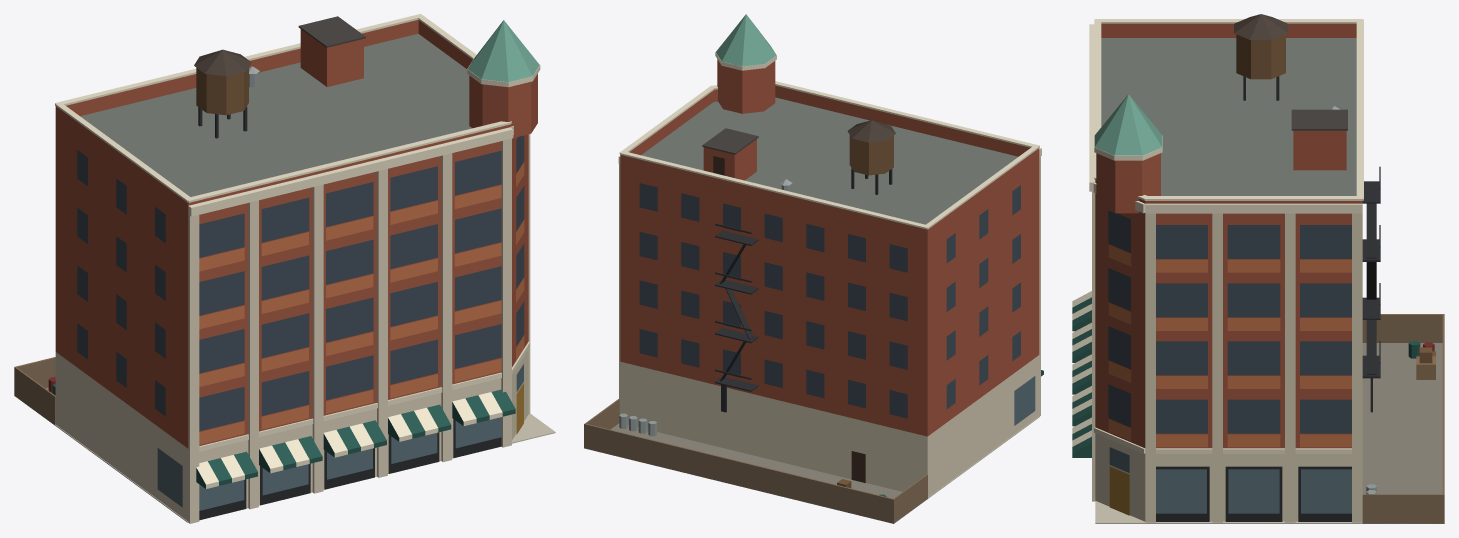
The model's file is office_wl.glb.
3 views of the same model, side by side, from view 1: azimuth 30°, elevation 25°; view 2: azimuth 150°, elevation 25°; view 3: azimuth 270°, elevation 25° (orthographic). The views are drawn at different scales.
Parts seen in each view (by area): view 1: office_wl; view 2: office_wl; view 3: office_wl.
Boxes of the visible parts, <box> form: office_wl: <box>14,14,555,523</box>; office_wl: <box>584,14,1043,523</box>; office_wl: <box>1072,14,1444,523</box>.
Bounding box in the file's own units: 20 × 21.28 × 17.42.
